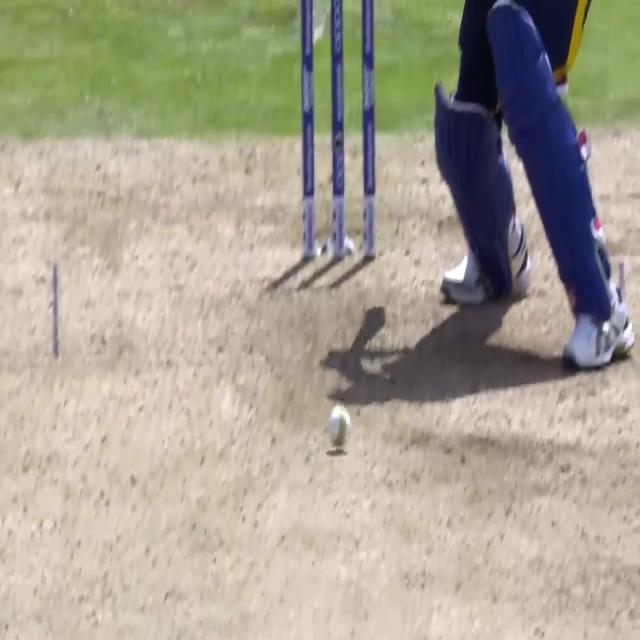ball: (328, 402, 352, 451)
